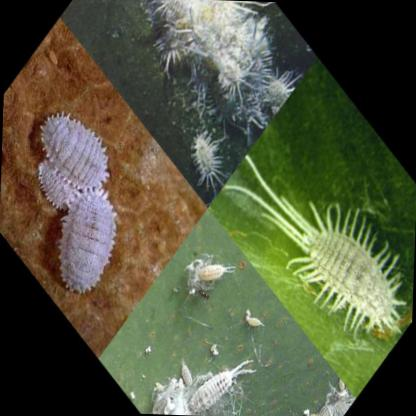mealy bug: (222, 164, 406, 345), (60, 191, 117, 290), (42, 113, 111, 187), (188, 358, 255, 415), (44, 163, 85, 210), (198, 138, 224, 185), (199, 264, 232, 282)
